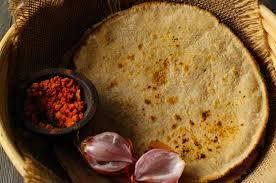bhakri: (61, 3, 274, 140)
salad: (80, 128, 193, 182)
